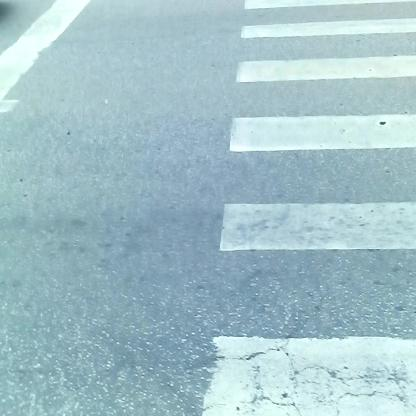crosswalk: (213, 5, 412, 416)
